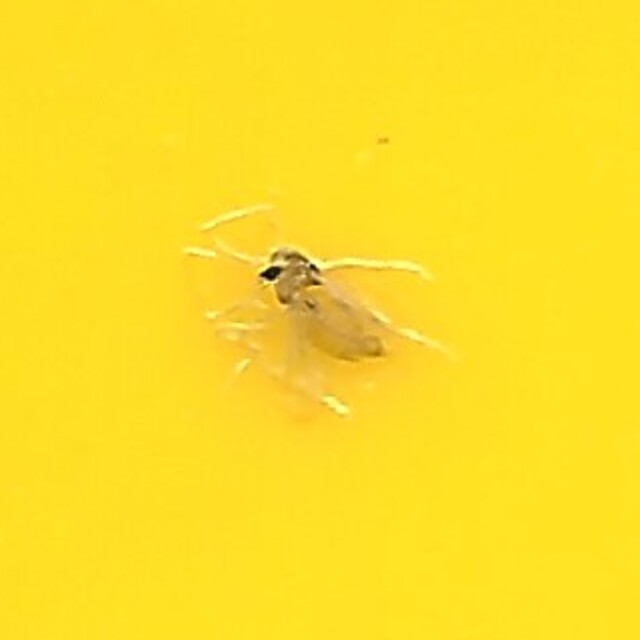Nematocera: (201, 210, 439, 430)
